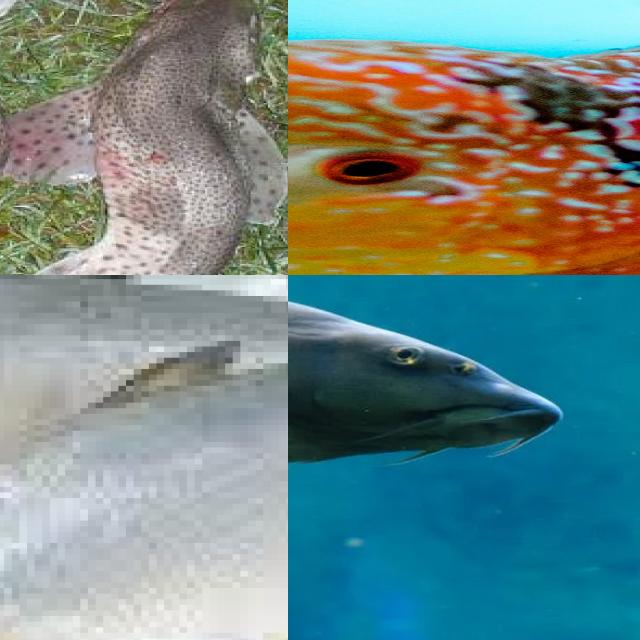fish: (0, 0, 288, 275), (0, 275, 288, 548)
